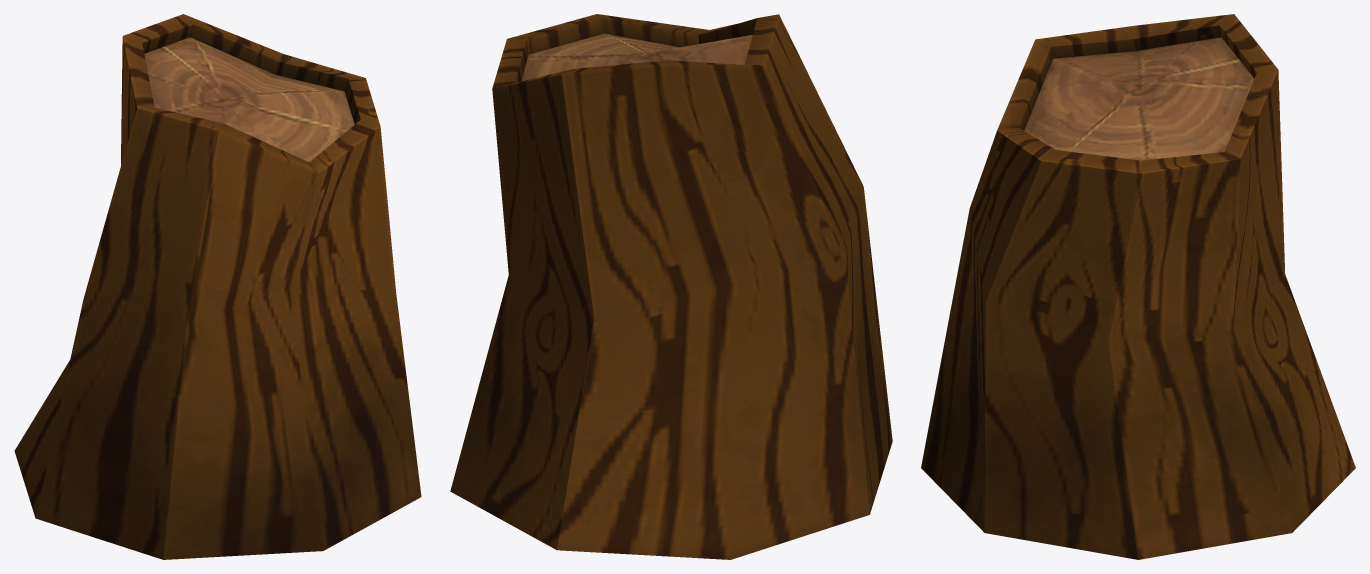
Rendered from TreeStamp3.fbx.
3 views of the same model, side by side, from view 1: azimuth 30°, elevation 25°; view 2: azimuth 150°, elevation 25°; view 3: azimuth 270°, elevation 25° (orthographic). The views are drawn at different scales.
Parts seen in each view (by area): view 1: TreeStamp3; view 2: TreeStamp3; view 3: TreeStamp3.
Boxes of the visible parts, bbox=[...] form: TreeStamp3: bbox=[14, 14, 421, 559]; TreeStamp3: bbox=[450, 14, 892, 559]; TreeStamp3: bbox=[921, 14, 1355, 559].
Bounding box in the file's own units: 85.07 × 92.66 × 85.07.
